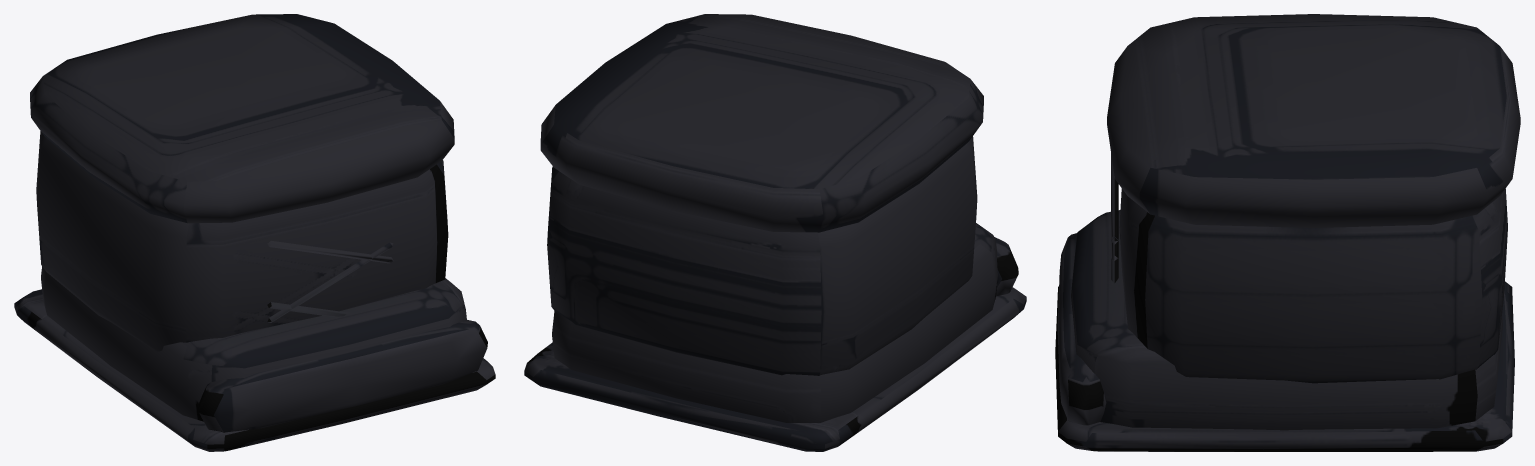
File: Albatros_BotaIzq.fbx
3 renders of one model, left to right at view 1: azimuth 30°, elevation 25°; view 2: azimuth 150°, elevation 25°; view 3: azimuth 270°, elevation 25°, orthographic. The views are drawn at different scales.
Visible parts, largest first — view 1: Albatros_BotaIzq; view 2: Albatros_BotaIzq; view 3: Albatros_BotaIzq.
Boxes of the visible parts, bbox=[...] form: Albatros_BotaIzq: bbox=[14, 14, 495, 451]; Albatros_BotaIzq: bbox=[524, 14, 1026, 451]; Albatros_BotaIzq: bbox=[1055, 14, 1520, 451].
Bounding box in the file's own units: 1.57 × 1.21 × 1.74.
